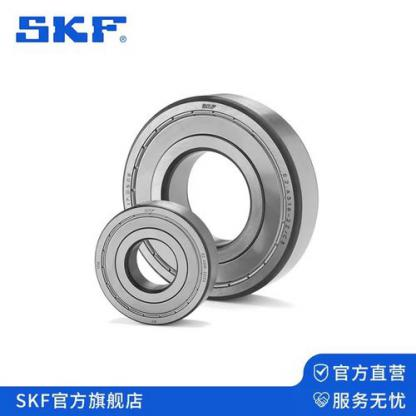FOD: (120, 87, 321, 304), (90, 201, 223, 329)
